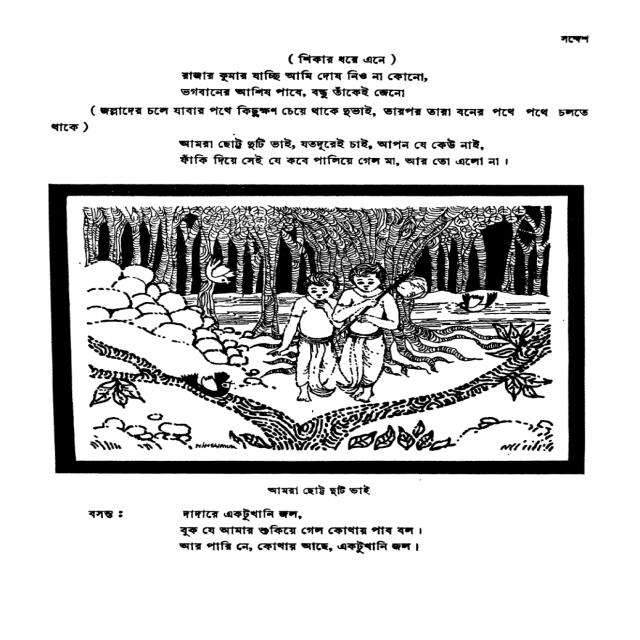image: (44, 180, 584, 475)
paragraph: (46, 49, 594, 135), (172, 132, 517, 168), (174, 504, 424, 553)
text: (551, 32, 600, 47), (82, 508, 126, 520)
title: (264, 483, 374, 496)
